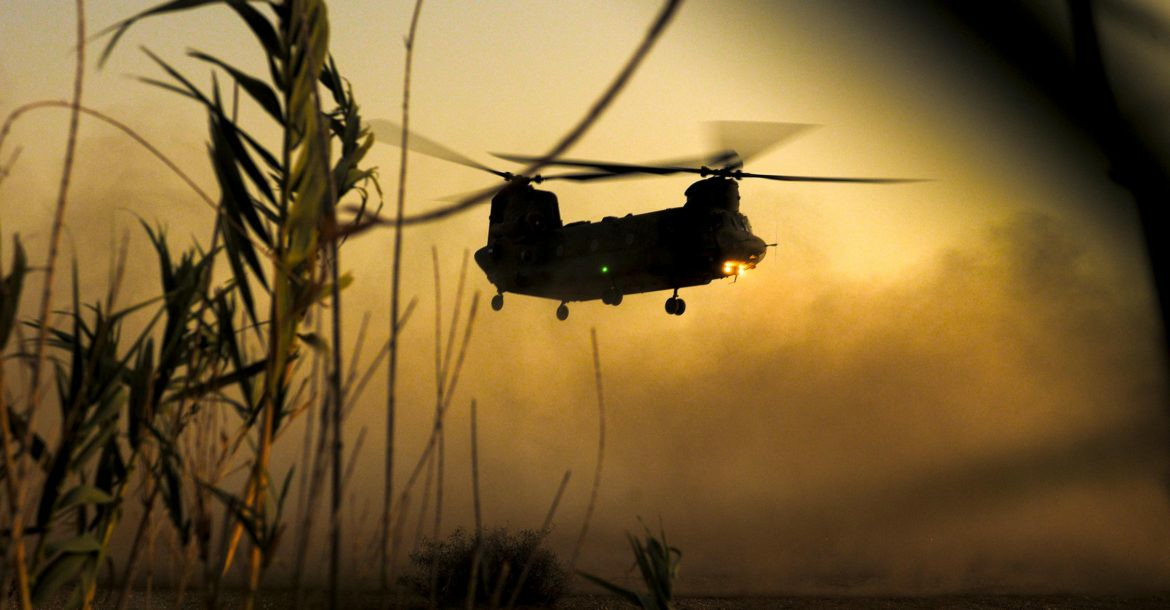chinook: (405, 123, 873, 381)
